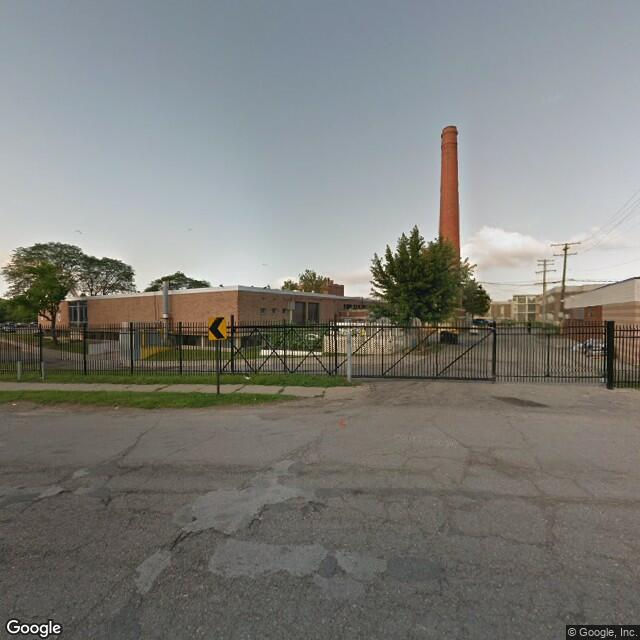litter: (113, 403, 121, 410), (242, 375, 255, 379), (9, 401, 19, 406)
